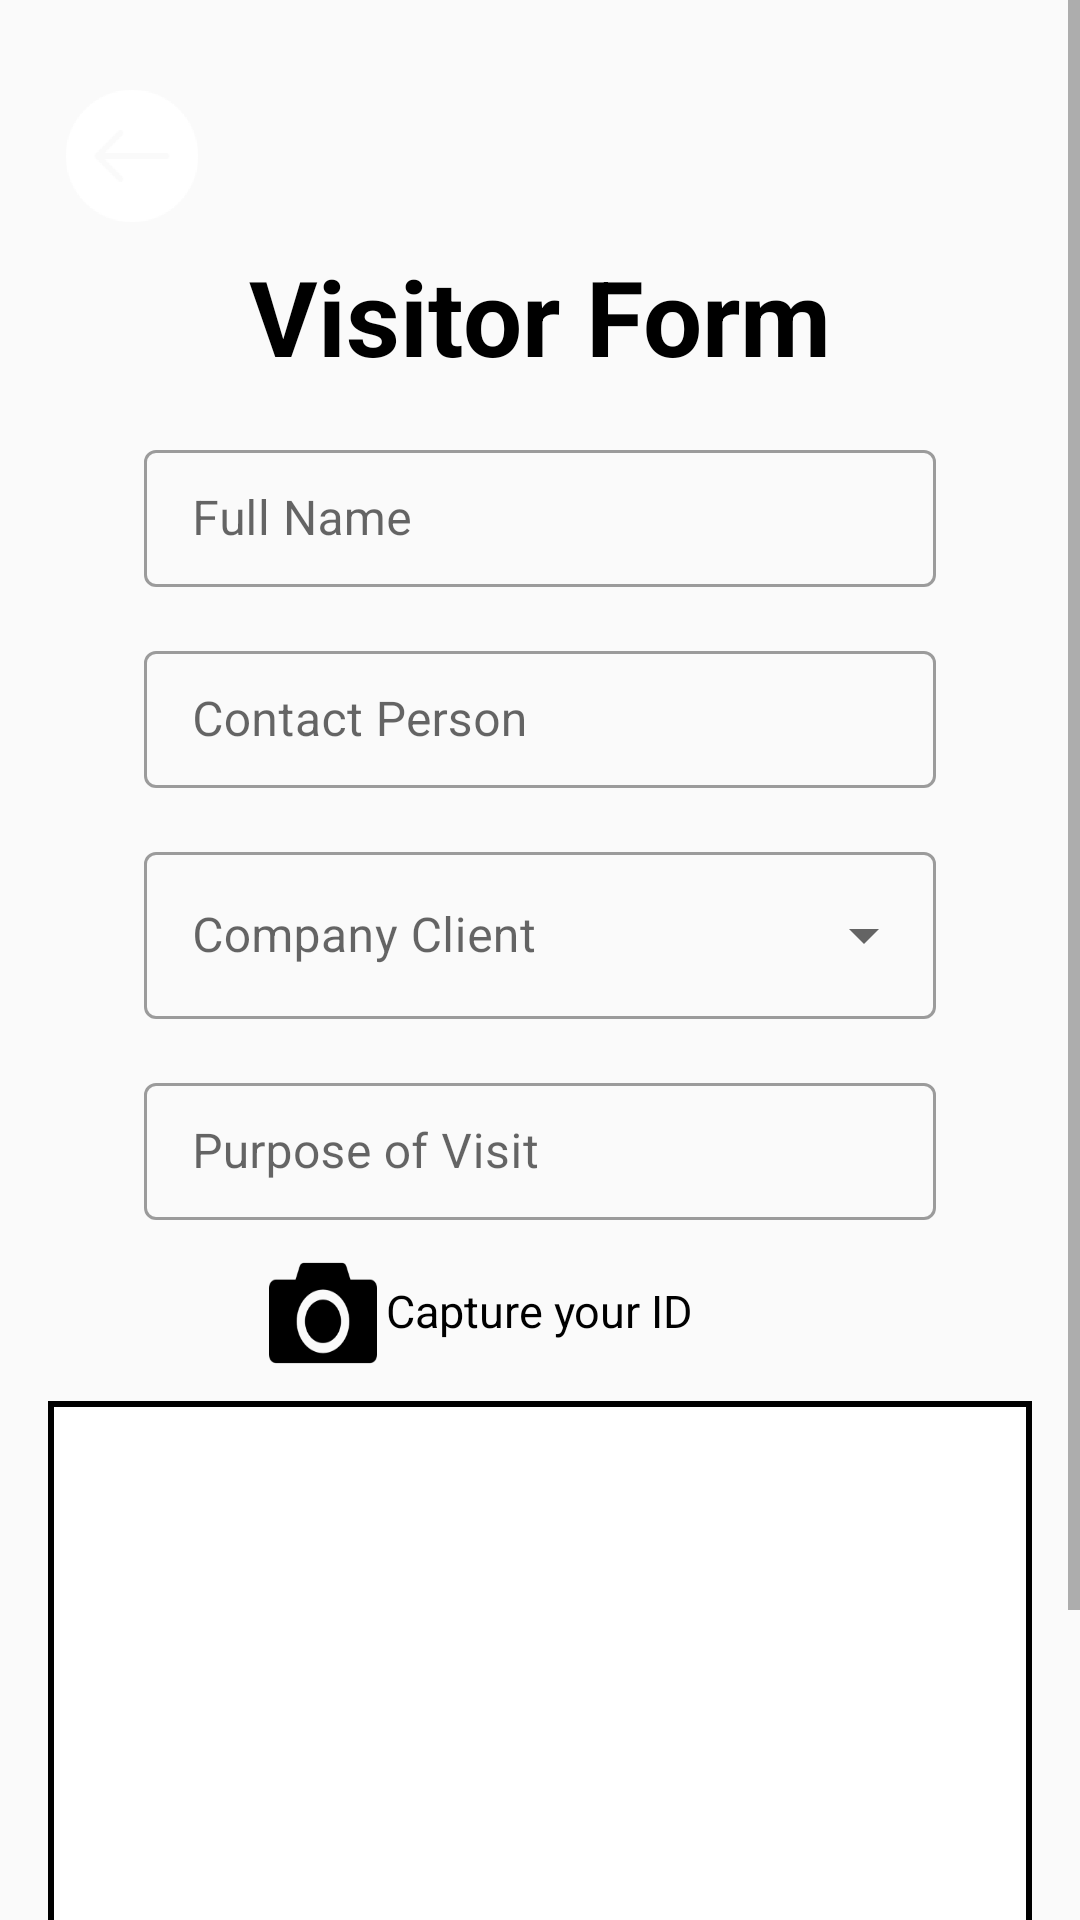

Icon click points for this 1080 × 1920 phone screenshot, format [x,y]:
changeprofpic: [323,1313]
